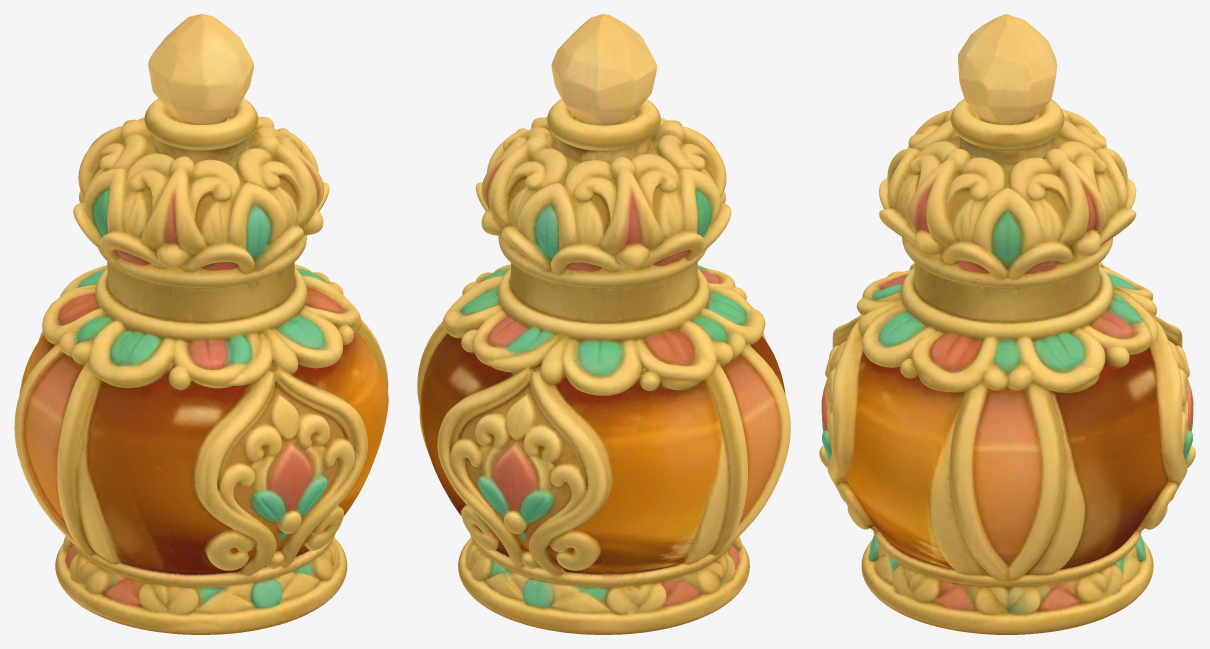
File: Meshy_AI_model.glb
The picture shows the model from 3 angles, left to right: view 1: azimuth 30°, elevation 25°; view 2: azimuth 150°, elevation 25°; view 3: azimuth 270°, elevation 25°; orthographic projection.
Parts seen in each view (by area): view 1: mesh_node; view 2: mesh_node; view 3: mesh_node.
Part boxes in pixels (x1,y1,x2,y2): mesh_node: (14, 14, 388, 634); mesh_node: (417, 14, 790, 634); mesh_node: (819, 14, 1195, 634).
Size of the model in its own units: 1.15 by 1.9 by 1.15.
1 material, 1 textured.
